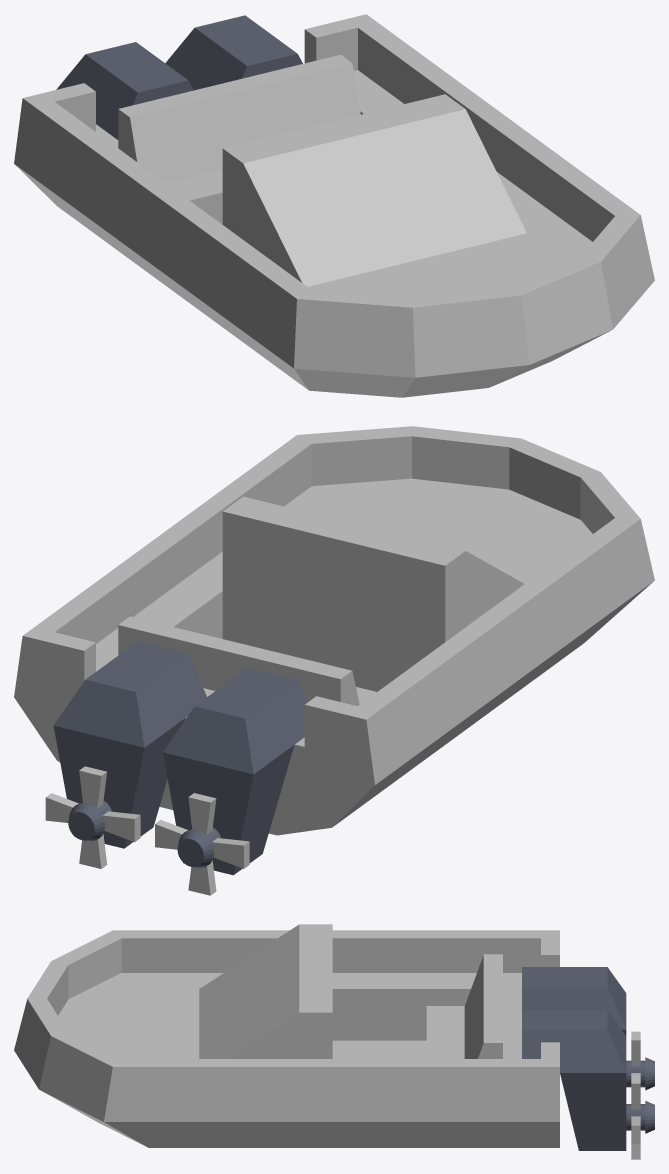
File: watercraftpack_012.glb
3 views of the same model, one above another, from view 1: azimuth 30°, elevation 25°; view 2: azimuth 150°, elevation 25°; view 3: azimuth 270°, elevation 25° (orthographic). The views are drawn at different scales.
Visible parts, largest first — view 1: Mesh5 Group1 Model, Mesh1 Group2 Group1 Model, Mesh2 Group3 Group1 Model; view 2: Mesh5 Group1 Model, Mesh2 Group3 Group1 Model, Mesh1 Group2 Group1 Model, Mesh4 Group5 Group1 Model, Mesh3 Group4 Group1 Model; view 3: Mesh5 Group1 Model, Mesh1 Group2 Group1 Model, Mesh2 Group3 Group1 Model, Mesh4 Group5 Group1 Model, Mesh3 Group4 Group1 Model.
Part boxes in pixels (left/top/right/bottom): Mesh5 Group1 Model: left=14, top=14, right=654, bottom=397; Mesh1 Group2 Group1 Model: left=165, top=15, right=302, bottom=90; Mesh2 Group3 Group1 Model: left=56, top=42, right=193, bottom=139; Mesh5 Group1 Model: left=14, top=426, right=654, bottom=835; Mesh2 Group3 Group1 Model: left=162, top=668, right=307, bottom=875; Mesh1 Group2 Group1 Model: left=53, top=641, right=206, bottom=848; Mesh4 Group5 Group1 Model: left=45, top=766, right=140, bottom=868; Mesh3 Group4 Group1 Model: left=155, top=793, right=249, bottom=895; Mesh5 Group1 Model: left=14, top=924, right=559, bottom=1147; Mesh1 Group2 Group1 Model: left=522, top=1010, right=654, bottom=1150; Mesh2 Group3 Group1 Model: left=522, top=967, right=654, bottom=1090; Mesh4 Group5 Group1 Model: left=631, top=1075, right=640, bottom=1159; Mesh3 Group4 Group1 Model: left=631, top=1031, right=640, bottom=1074.
Size of the model in its own units: 1.78 by 0.9571 by 3.37.
